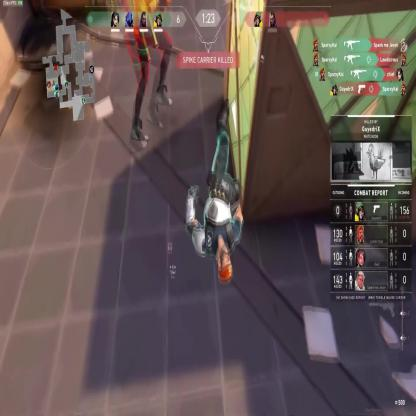enemy: (125, 0, 174, 149)
